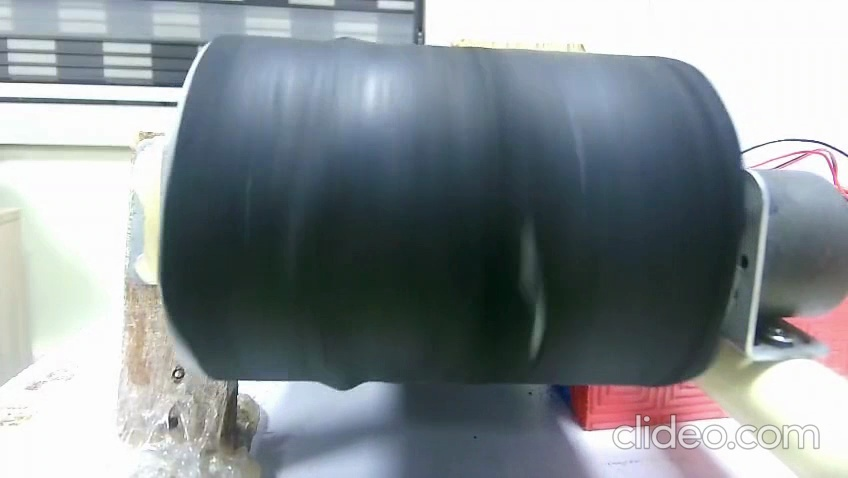tear: (513, 202, 556, 373)
